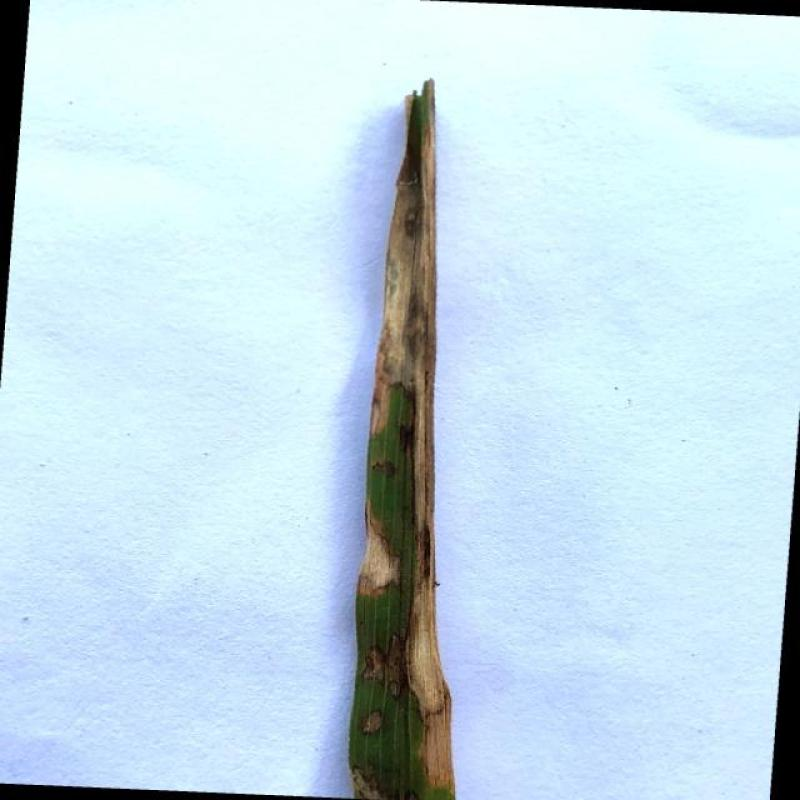Bacterial_Leaf_Blight: (368, 112, 438, 520), (407, 536, 454, 792), (352, 520, 404, 601), (361, 644, 405, 698), (359, 705, 389, 740), (350, 766, 379, 800)
